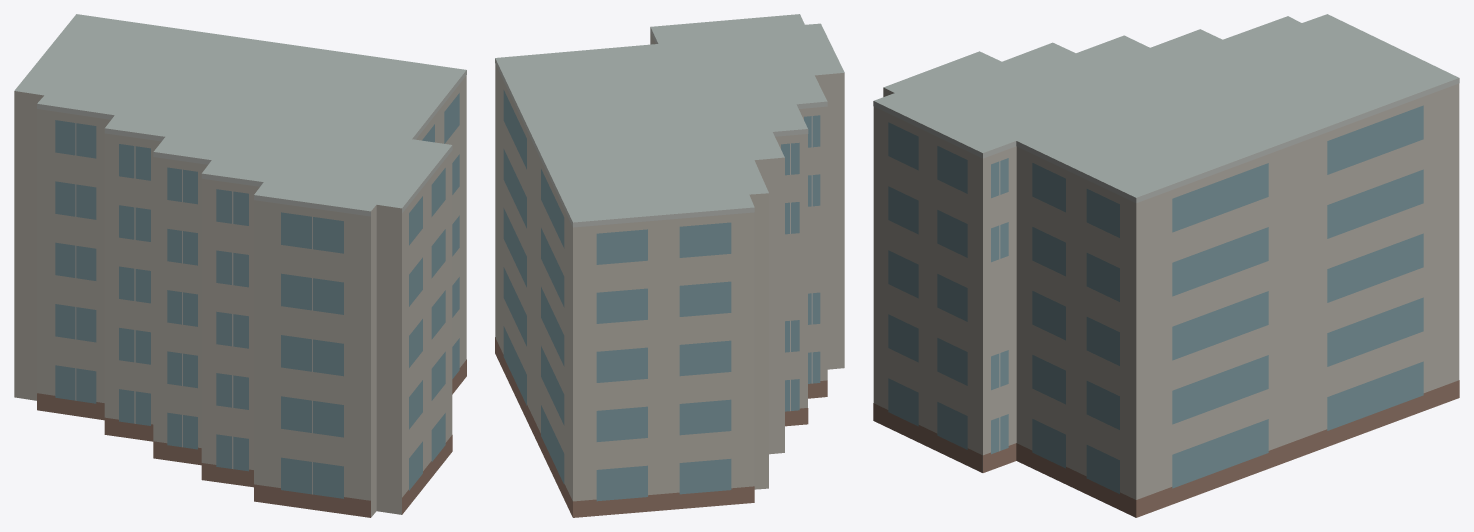
The model's file is survey-upis-32839427.glb.
3 renders of one model, left to right at view 1: azimuth 30°, elevation 25°; view 2: azimuth 150°, elevation 25°; view 3: azimuth 270°, elevation 25°, orthographic. The views are drawn at different scales.
Visible parts, largest first — view 1: survey-upis-32839427.tmp; view 2: survey-upis-32839427.tmp; view 3: survey-upis-32839427.tmp.
Boxes of the visible parts, left/top/right/bottom form: survey-upis-32839427.tmp: left=14, top=14, right=466, bottom=517; survey-upis-32839427.tmp: left=495, top=14, right=844, bottom=517; survey-upis-32839427.tmp: left=873, top=14, right=1459, bottom=517.
Size of the model in its own units: 17.75 by 14.4 by 23.9.
